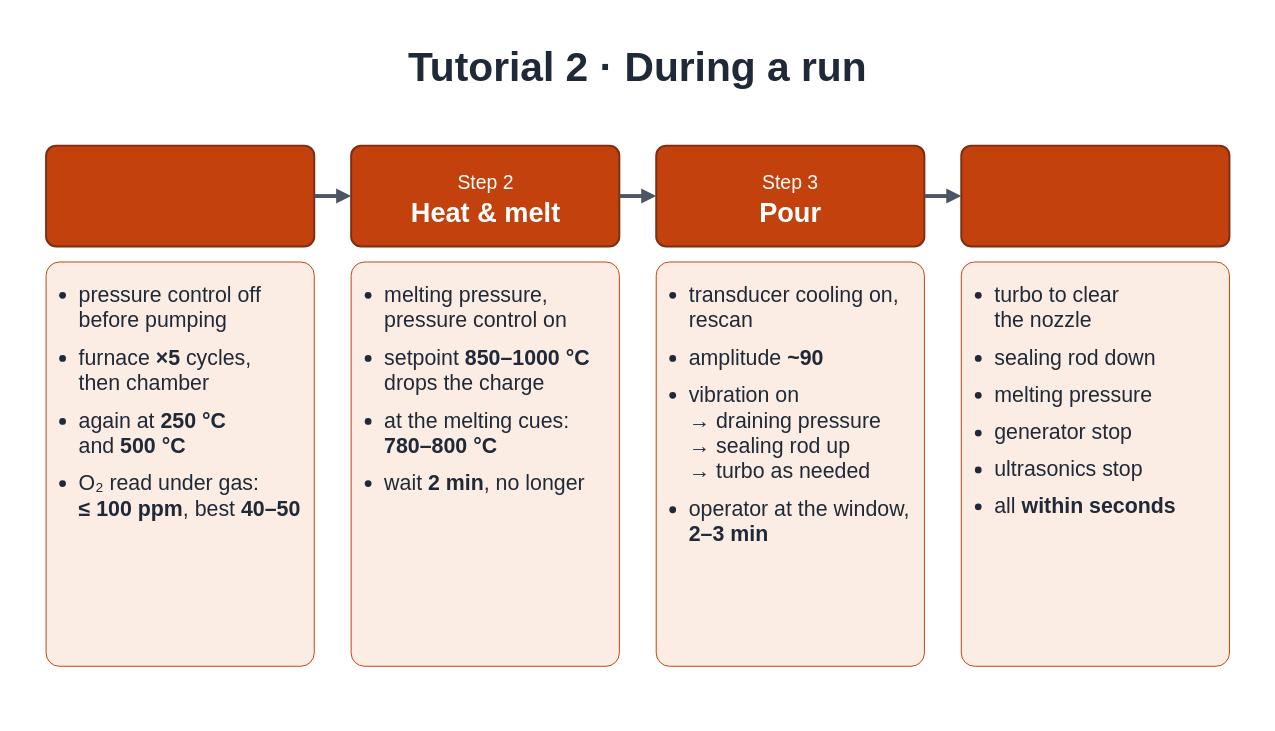
The diagram is 1275 pixels wide and 731 high, and some of its shapes have lost their labels. Here are the shapes that lost their labels. From the top down, the centre of each, then its label:
point 180,195: Step 1 Gas wash
point 1095,195: Step 4 End of pour
